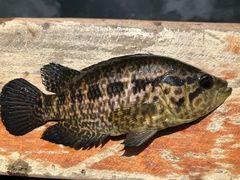Jaguar Gapote: (1, 52, 233, 152)
